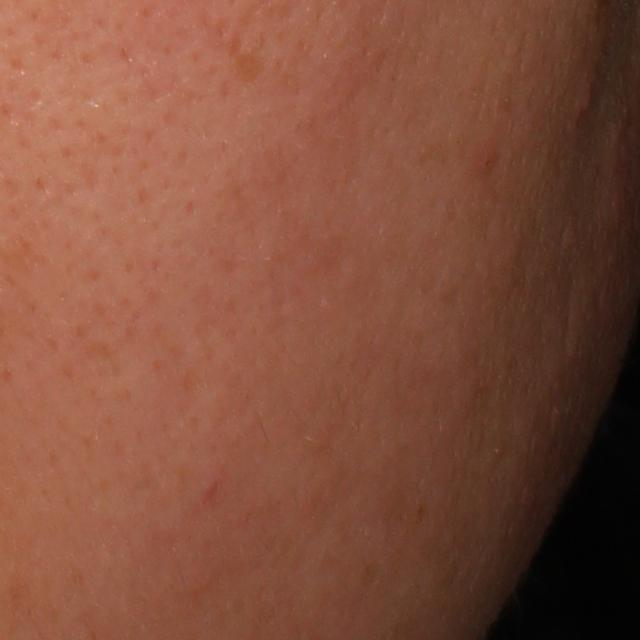papule: (579, 84, 599, 117)
